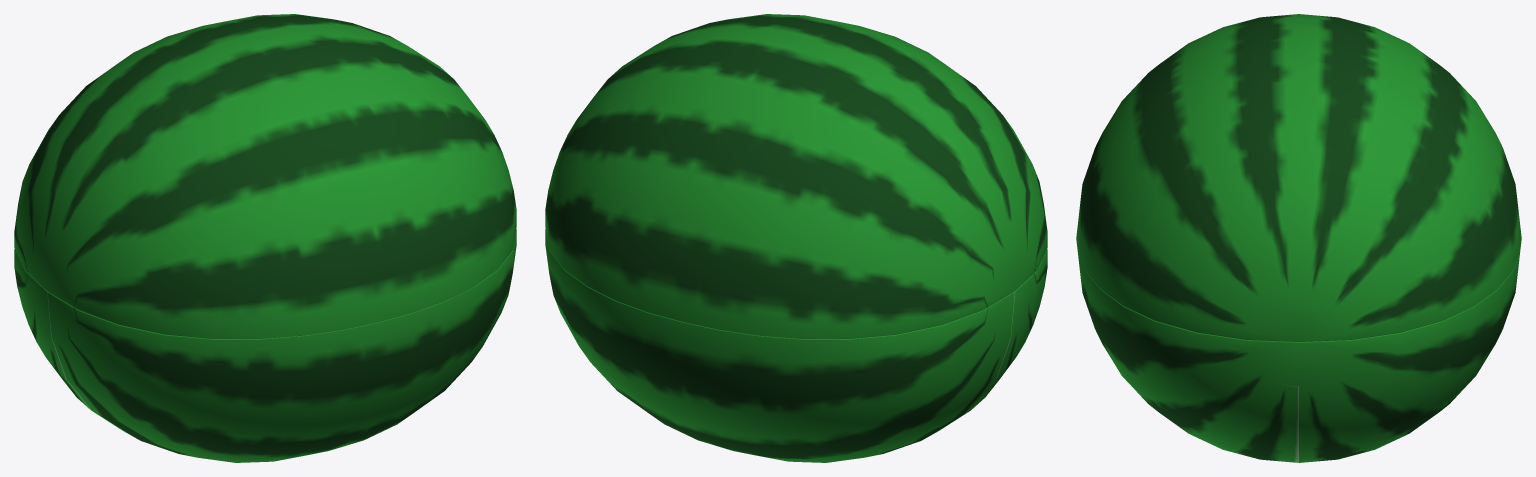
Rendered from WatermelonToy.fbx.
The picture shows the model from 3 angles, left to right: view 1: azimuth 30°, elevation 25°; view 2: azimuth 150°, elevation 25°; view 3: azimuth 270°, elevation 25°; orthographic projection. The views are drawn at different scales.
Visible parts, largest first — view 1: Watermelon; view 2: Watermelon; view 3: Watermelon.
Boxes of the visible parts, box(x1,y1,x2,y2) form: Watermelon: box(14, 14, 516, 462); Watermelon: box(545, 14, 1047, 462); Watermelon: box(1076, 14, 1521, 462).
Size of the model in its own units: 2 by 1.75 by 1.81.
